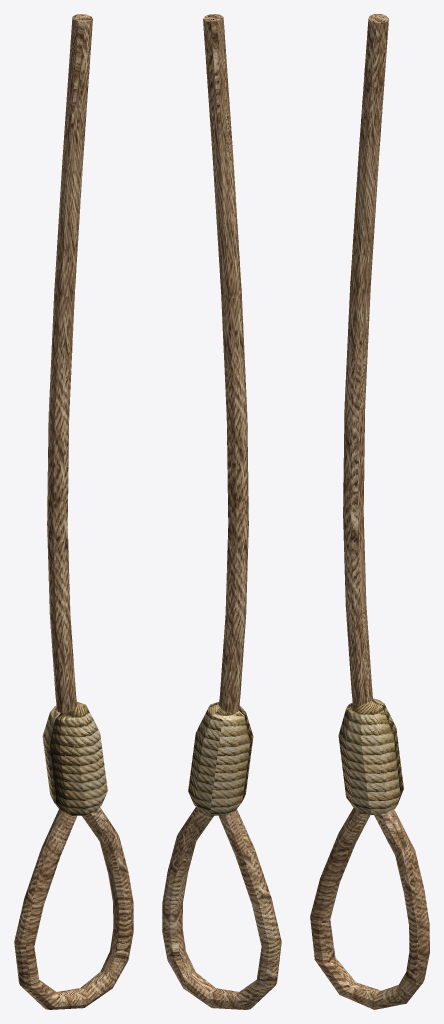
The model's file is Noose.fbx.
3 views of the same model, side by side, from view 1: azimuth 30°, elevation 25°; view 2: azimuth 150°, elevation 25°; view 3: azimuth 330°, elevation 25° (orthographic).
Visible parts, largest first — view 1: Noose; view 2: Noose; view 3: Noose.
Part boxes in pixels (bbox=[...]): Noose: bbox=[14, 14, 133, 1009]; Noose: bbox=[162, 14, 281, 1009]; Noose: bbox=[310, 14, 429, 1009].
Size of the model in its own units: 2.62 by 21.18 by 1.08.
2 materials, 2 textured.
